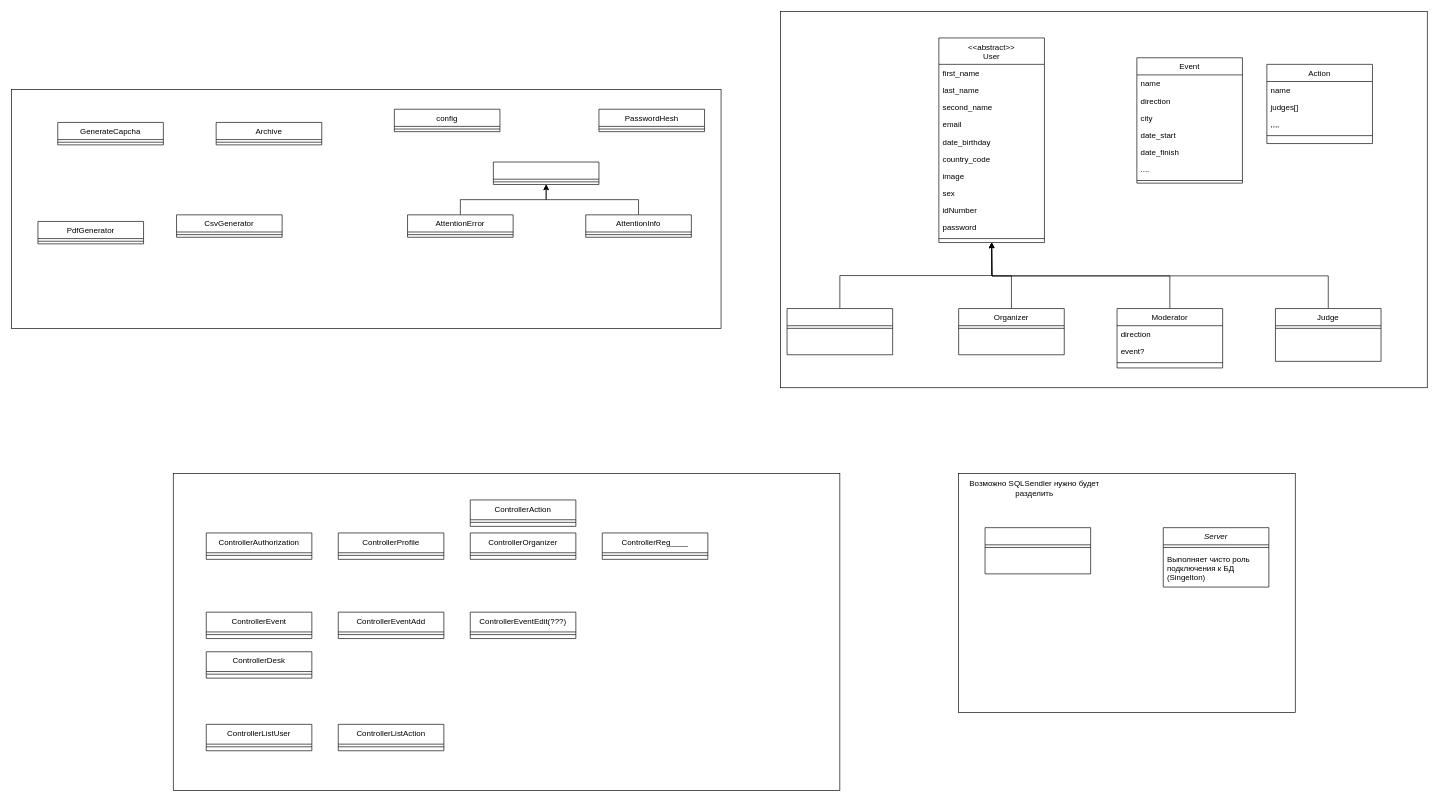
Some shapes in this 1439 by 802 pixel diagram are drawn without their labels. Here are the shapes that lost their labels. From the top down, the centre of each, then its label:
point (546, 172): Attention
point (839, 331): Participant
point (1037, 550): SqlSendler
